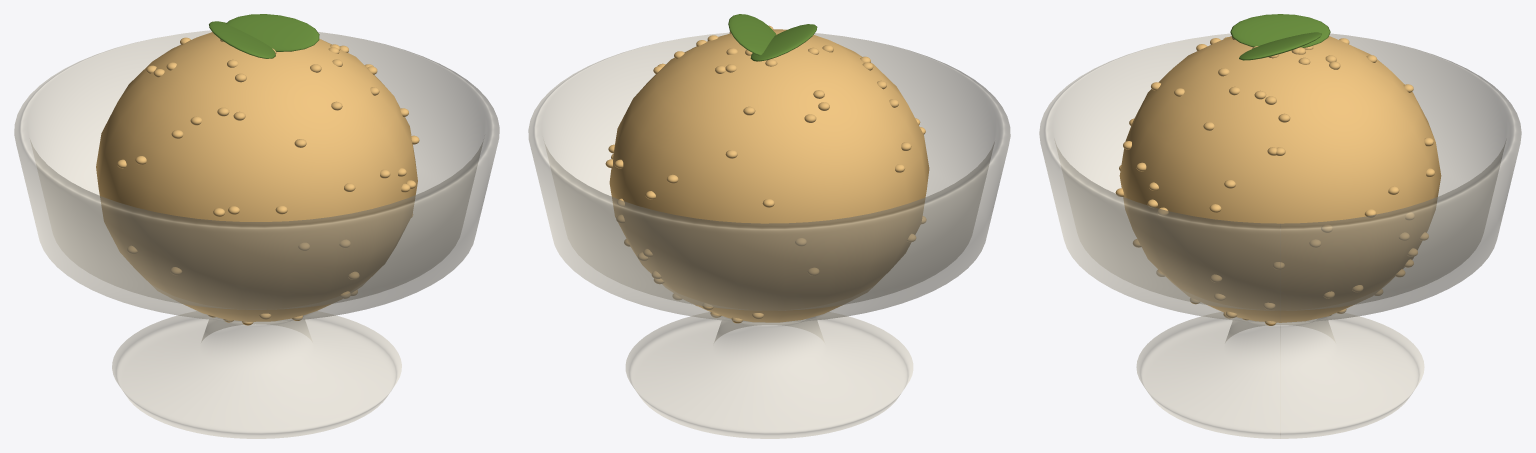
The model's file is 27-citrus-sorbet.glb.
The picture shows the model from 3 angles, left to right: view 1: azimuth 30°, elevation 25°; view 2: azimuth 150°, elevation 25°; view 3: azimuth 270°, elevation 25°; orthographic projection.
Parts seen in each view (by area): view 1: 시트러스 소르베; view 2: 시트러스 소르베; view 3: 시트러스 소르베.
Part boxes in pixels (box(x1,y1,x2,y2)): 시트러스 소르베: box(14, 14, 499, 438); 시트러스 소르베: box(528, 14, 1010, 438); 시트러스 소르베: box(1039, 14, 1521, 438).
Bounding box in the file's own units: 1.44 × 1.16 × 1.44.
